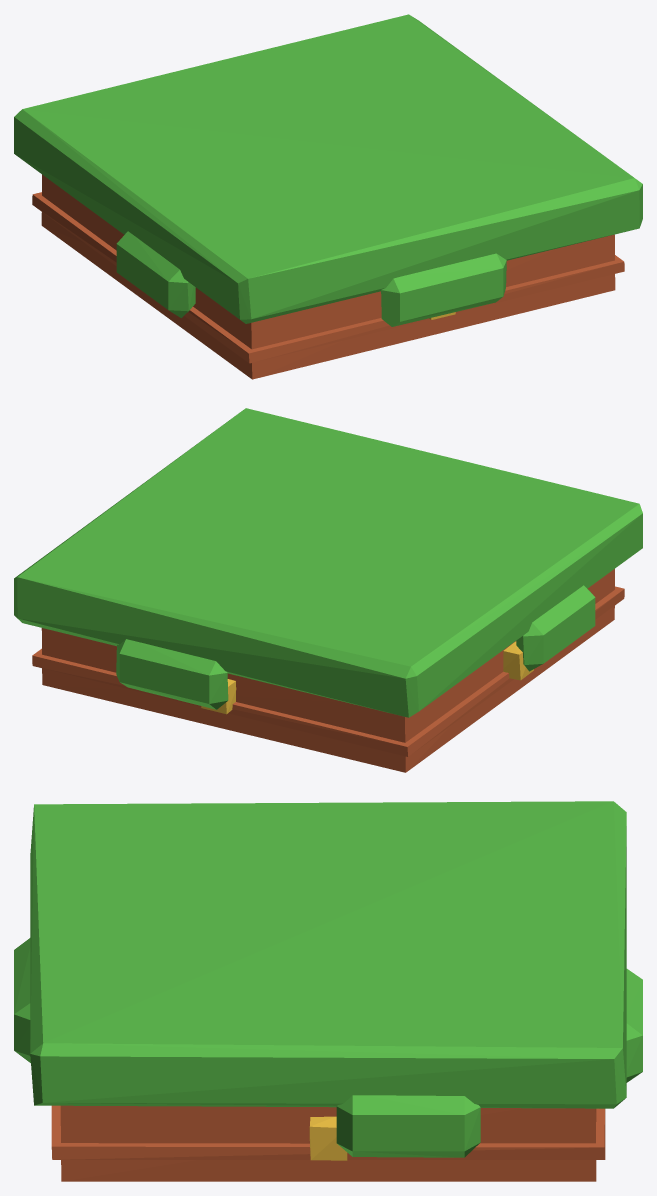
File: floating_platform_lod1.obj
3 views of the same model, one above another, from view 1: azimuth 30°, elevation 25°; view 2: azimuth 150°, elevation 25°; view 3: azimuth 270°, elevation 25° (orthographic). The views are drawn at different scales.
Visible parts, largest first — view 1: floating_platform_lod1; view 2: floating_platform_lod1; view 3: floating_platform_lod1.
Part boxes in pixels (<box>): floating_platform_lod1: <box>14,14,642,379</box>; floating_platform_lod1: <box>14,408,642,772</box>; floating_platform_lod1: <box>14,801,642,1181</box>.
Bounding box in the file's own units: 3.14 × 0.9963 × 3.14.
